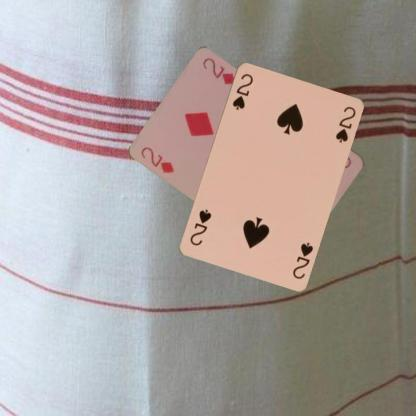2d: (138, 144, 176, 174)
2s: (230, 70, 254, 111), (290, 239, 314, 280)
